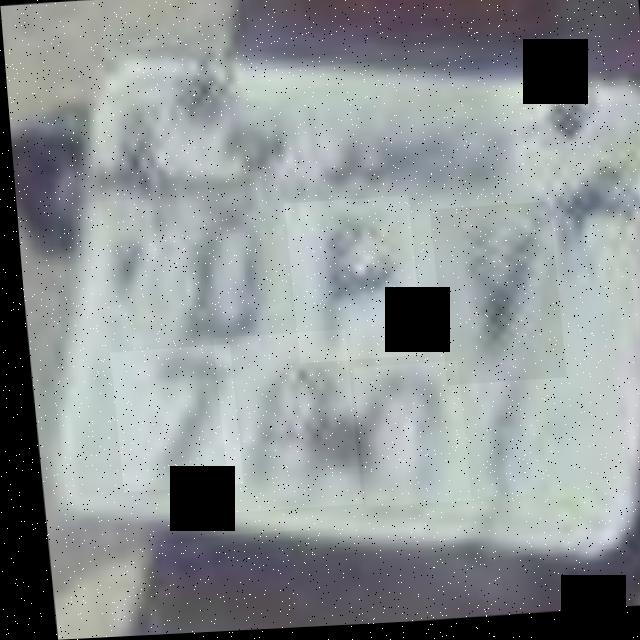7: (104, 346, 235, 493), (346, 365, 462, 511)
8: (207, 332, 353, 514)
P: (280, 199, 417, 366)
Y: (426, 207, 560, 390)
